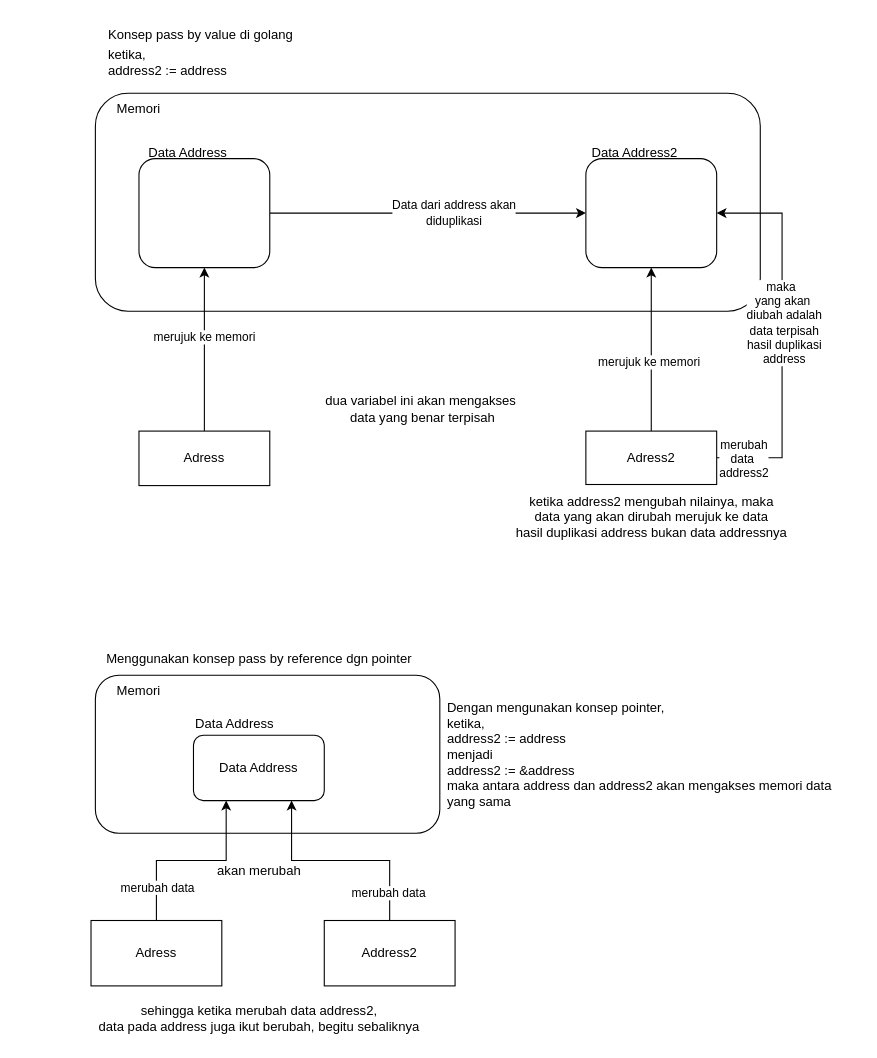
Image size: 877x1058. Some labels were removed from this diagram. The box of each missing label's shape, as (x1, y1, x2, y2) in pixels:
Data: (138, 158, 270, 268)
Data duplikasi dari address: (585, 158, 717, 268)
